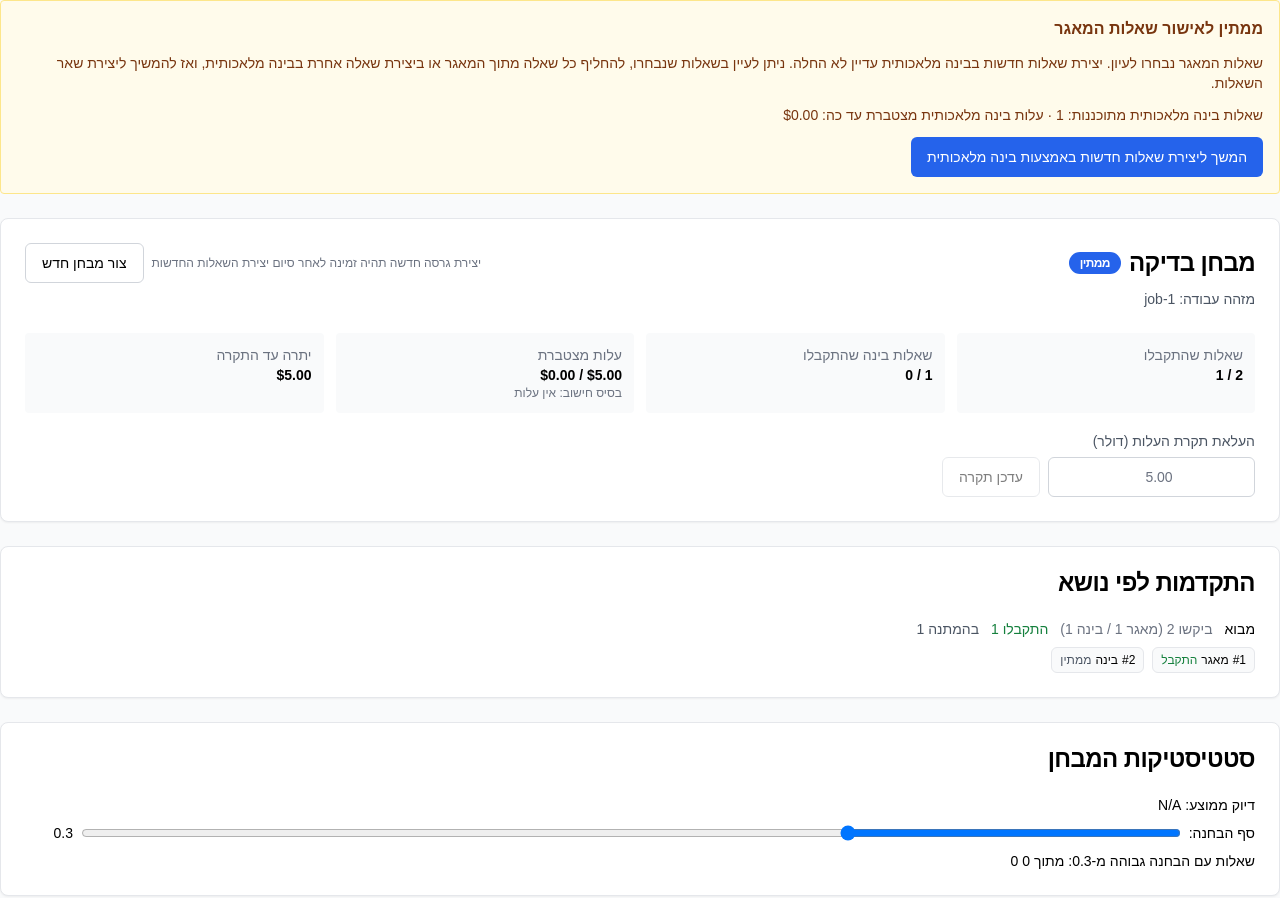
Test case: WP27R - reliable Continue claim and polling › a genuine (non-409) Continue failure still shows an error
The image size is (1280, 898).
Click the button with test id "continue-llm-button": (1087,157) [911,137,1263,177]
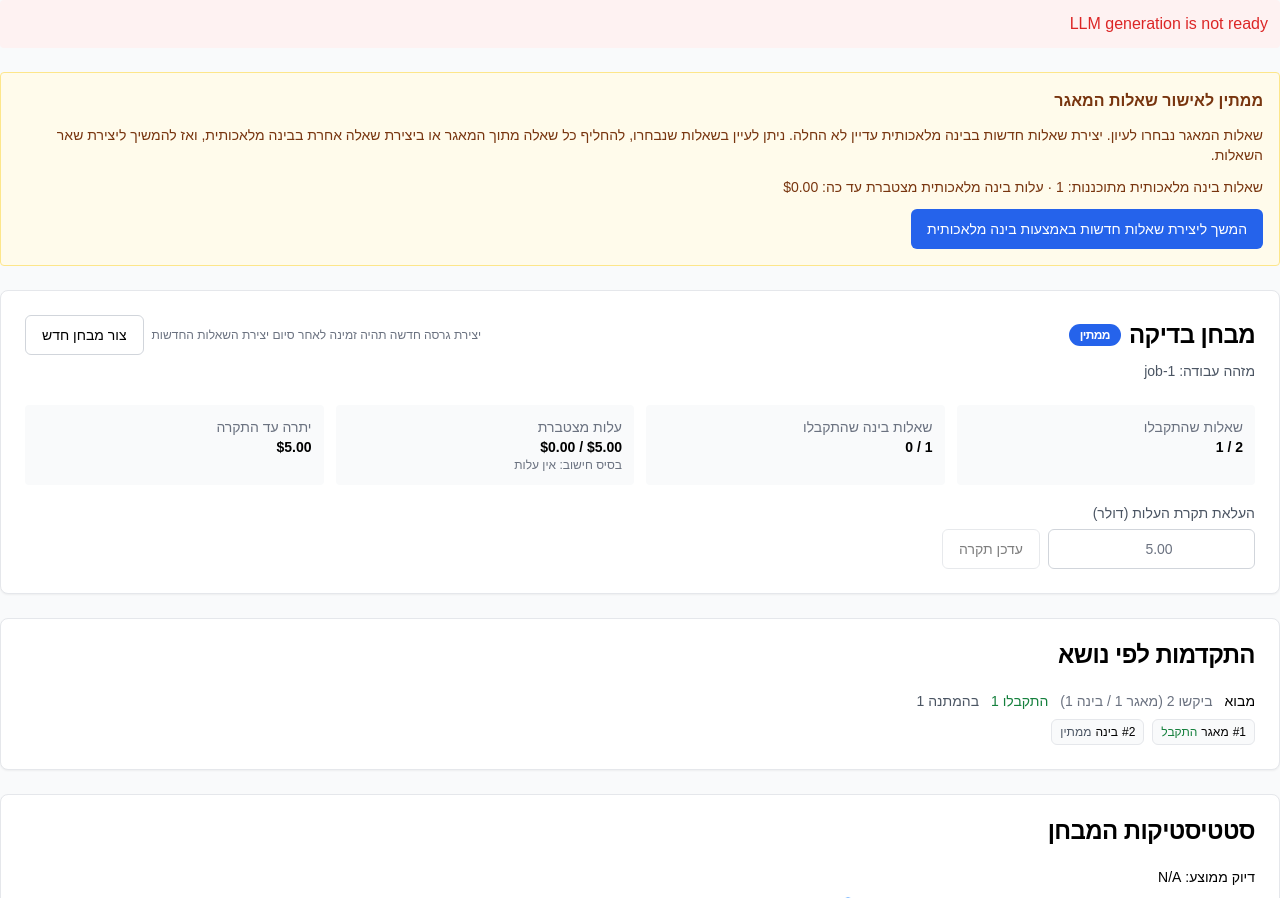
Check: the message reads "LLM generation is not ready", box [1070,15,1268,32]
